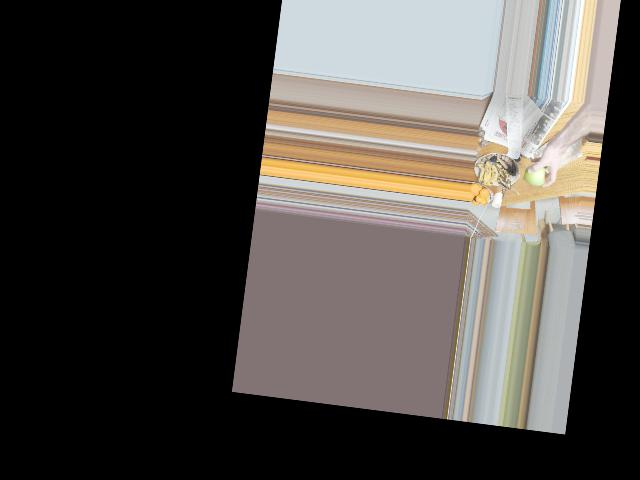apple: (524, 160, 547, 188)
